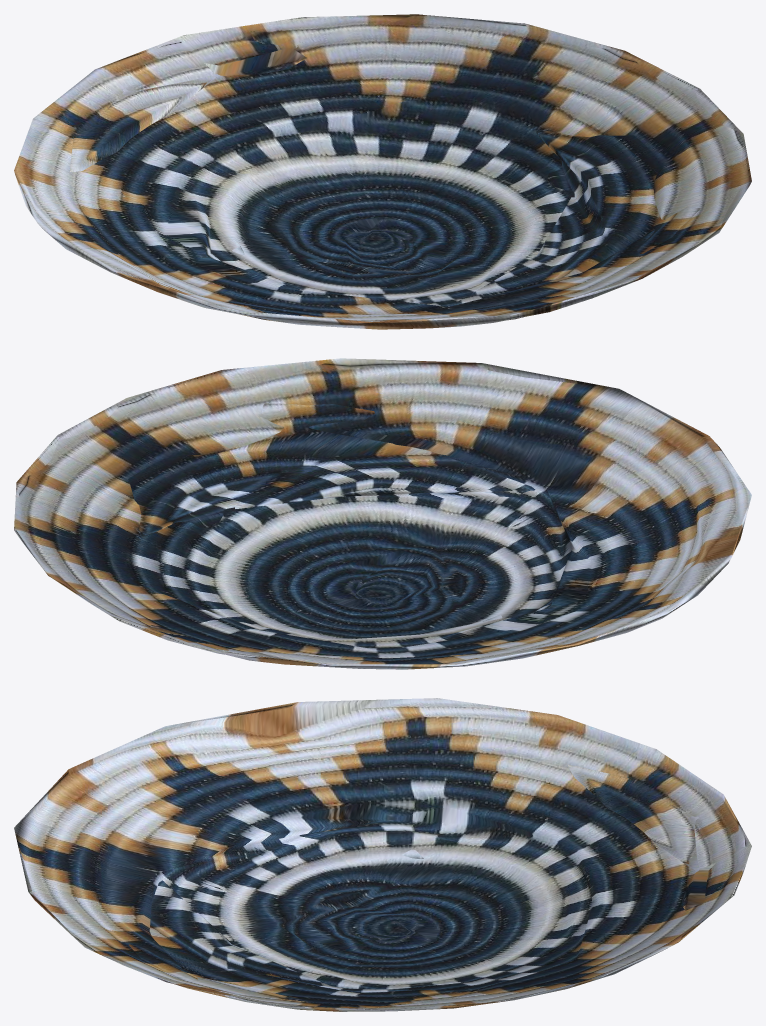
File: Concentric Checkerboard Tribal Weave.fbx
3 views of the same model, one above another, from view 1: azimuth 30°, elevation 25°; view 2: azimuth 150°, elevation 25°; view 3: azimuth 270°, elevation 25° (orthographic).
Visible parts, largest first — view 1: Concentric Checkerboard Tribal Weave; view 2: Concentric Checkerboard Tribal Weave; view 3: Concentric Checkerboard Tribal Weave.
Part boxes in pixels (left/top/right/bottom): Concentric Checkerboard Tribal Weave: left=14, top=14, right=751, bottom=329; Concentric Checkerboard Tribal Weave: left=14, top=358, right=751, bottom=669; Concentric Checkerboard Tribal Weave: left=14, top=698, right=751, bottom=1011.
Size of the model in its own units: 36.65 by 4.64 by 36.79.
1 material, 1 textured.
